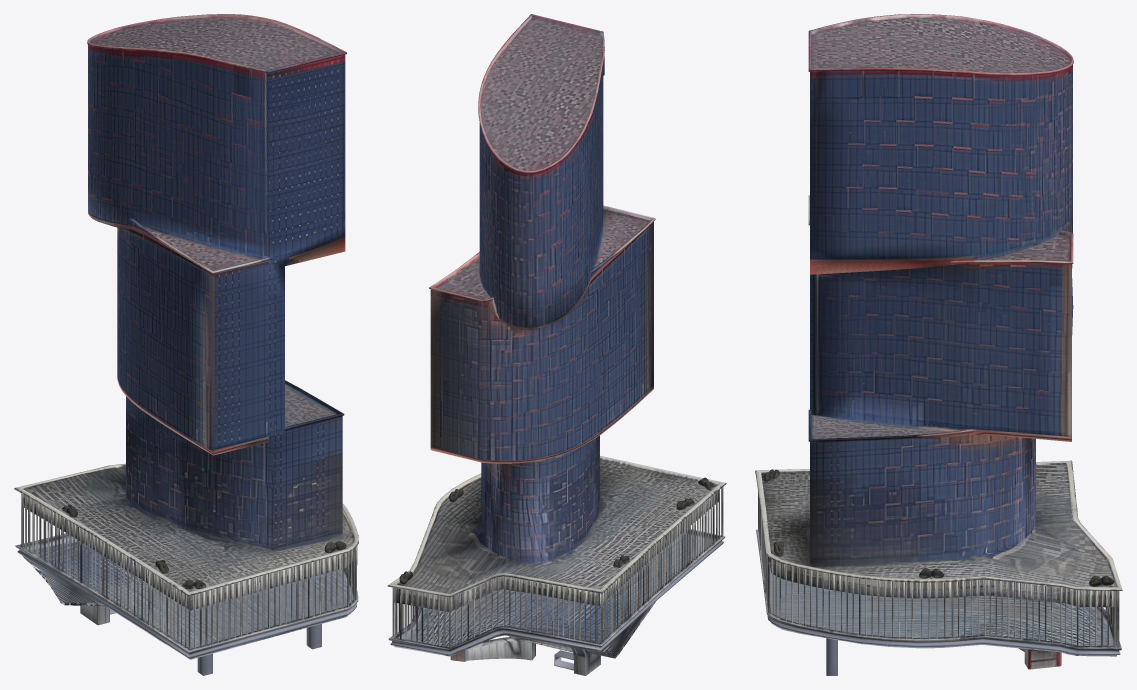
The model's file is carshow-deck.1024.glb.
3 views of the same model, side by side, from view 1: azimuth 30°, elevation 25°; view 2: azimuth 150°, elevation 25°; view 3: azimuth 270°, elevation 25° (orthographic). The views are drawn at different scales.
Visible parts, largest first — view 1: tripo_09cc775a_3ec3_4c65_8e85_5d38d768c25f; view 2: tripo_09cc775a_3ec3_4c65_8e85_5d38d768c25f; view 3: tripo_09cc775a_3ec3_4c65_8e85_5d38d768c25f.
Boxes of the visible parts, x1=… form: tripo_09cc775a_3ec3_4c65_8e85_5d38d768c25f: x1=14, y1=14, x2=358, y2=675; tripo_09cc775a_3ec3_4c65_8e85_5d38d768c25f: x1=387, y1=14, x2=726, y2=675; tripo_09cc775a_3ec3_4c65_8e85_5d38d768c25f: x1=755, y1=14, x2=1122, y2=675.
Size of the model in its own units: 0.4165 by 0.9995 by 0.5425.
1 material, 1 textured.
